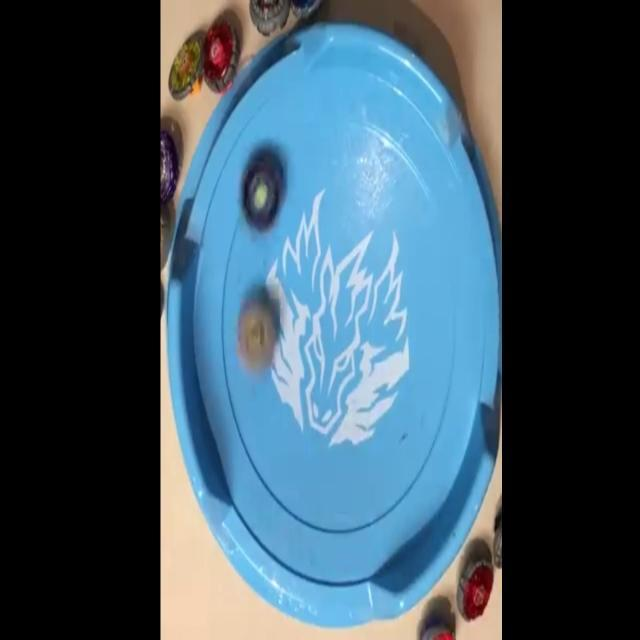Beyblade: (201, 20, 239, 93), (242, 162, 280, 232), (238, 304, 276, 374), (458, 556, 493, 622), (169, 40, 203, 100)
